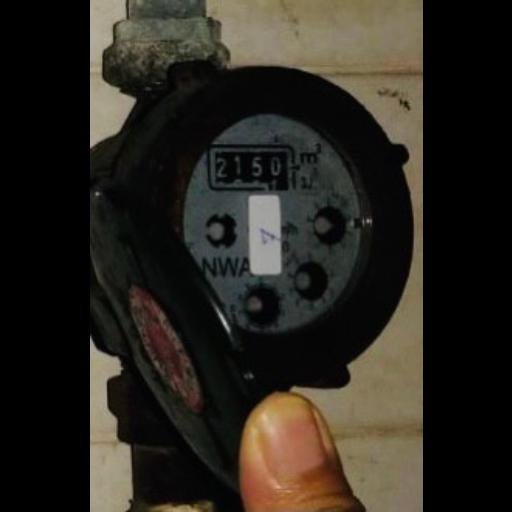0: (265, 151, 288, 191)
1: (229, 151, 248, 184)
2: (214, 152, 230, 185)
5: (246, 151, 266, 184)
border_water_meter_number: (205, 145, 295, 192)
